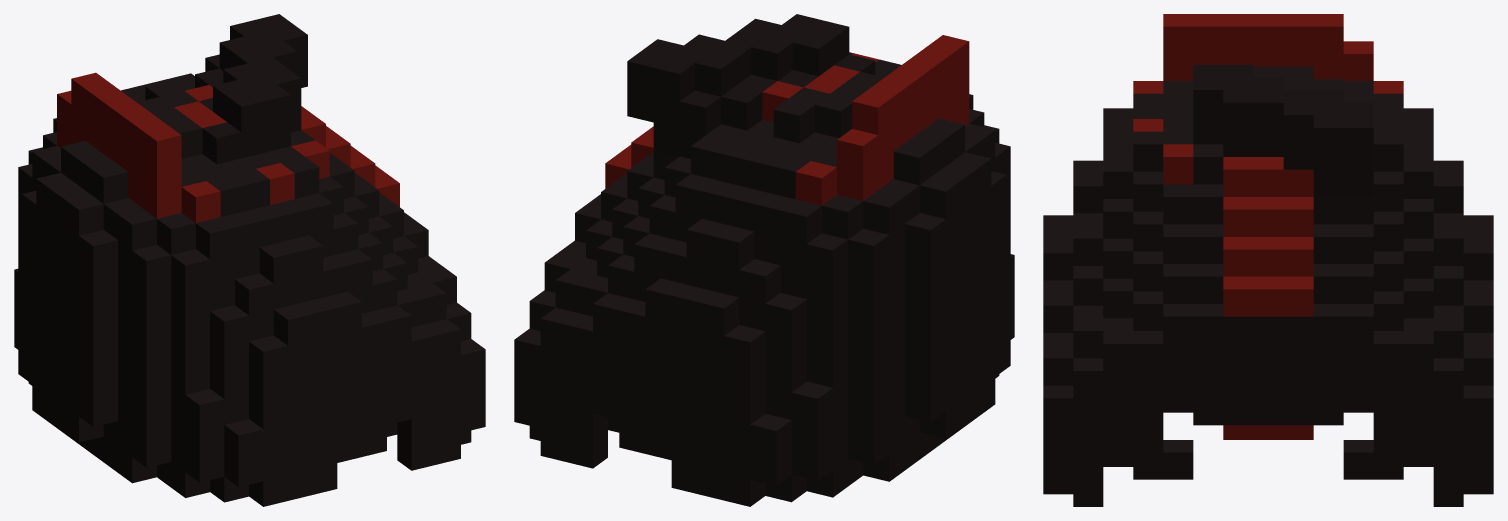
Rendered from plate_masterwork_shoulder_L_lod1.glb.
3 views of the same model, side by side, from view 1: azimuth 30°, elevation 25°; view 2: azimuth 150°, elevation 25°; view 3: azimuth 270°, elevation 25° (orthographic). The views are drawn at different scales.
Visible parts, largest first — view 1: plate_masterwork_shoulder_L_lod1; view 2: plate_masterwork_shoulder_L_lod1; view 3: plate_masterwork_shoulder_L_lod1.
Boxes of the visible parts, x1,y1,x2,y2 form: plate_masterwork_shoulder_L_lod1: [14, 14, 485, 506]; plate_masterwork_shoulder_L_lod1: [514, 14, 1014, 506]; plate_masterwork_shoulder_L_lod1: [1043, 14, 1493, 506].
Bounding box in the file's own units: 0.312 × 0.312 × 0.36.
